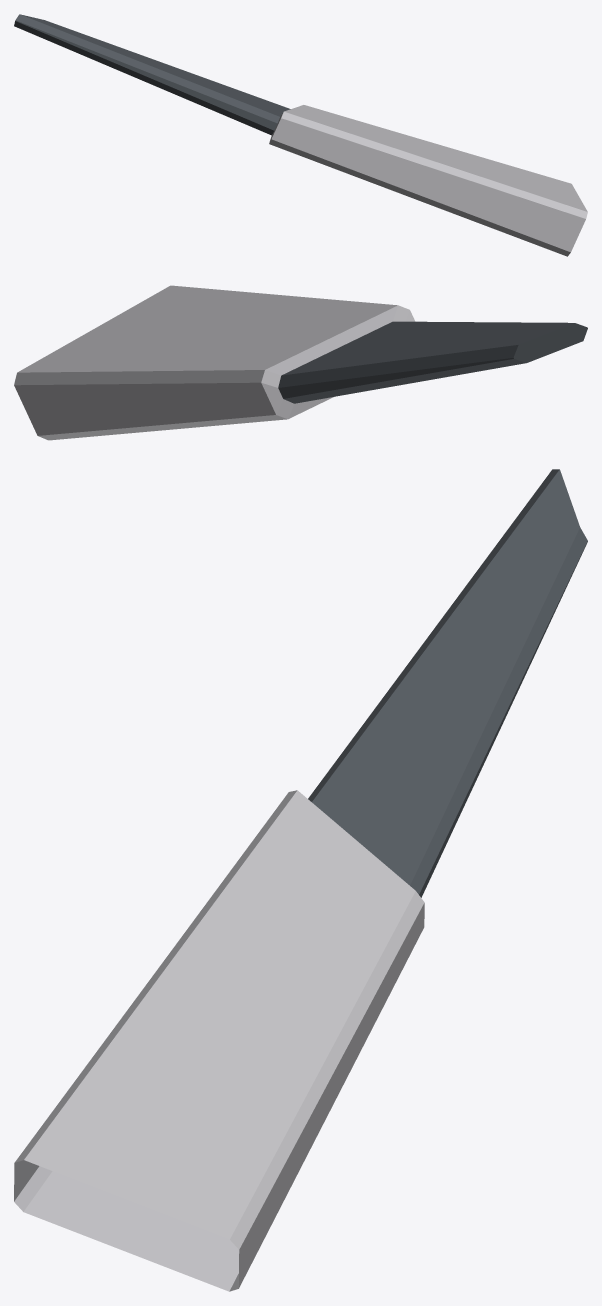
The model's file is Dropship_05_Wing_Right.fbx.
The picture shows the model from 3 angles, top to bottom: view 1: azimuth 30°, elevation 25°; view 2: azimuth 150°, elevation 25°; view 3: azimuth 270°, elevation 25°; orthographic projection. The views are drawn at different scales.
Parts seen in each view (by area): view 1: Dropship_05_Wing_Right; view 2: Dropship_05_Wing_Right; view 3: Dropship_05_Wing_Right.
Part boxes in pixels (x1,y1,x2,y2): Dropship_05_Wing_Right: [14, 14, 587, 256]; Dropship_05_Wing_Right: [14, 285, 587, 440]; Dropship_05_Wing_Right: [14, 469, 587, 1291].
Bounding box in the file's own units: 452 × 234 × 274.
Materials: 1 (1 with a texture image).
